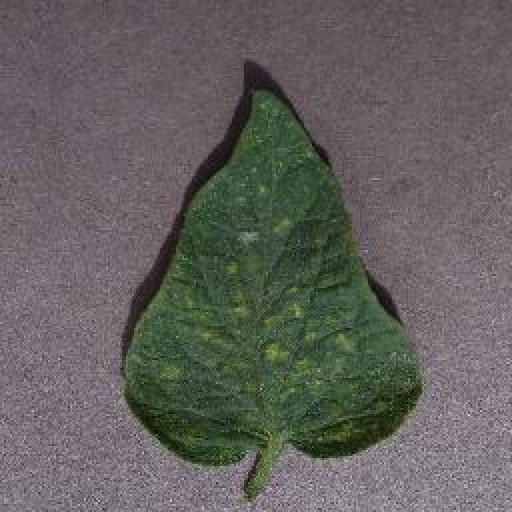disease_tomato: (124, 85, 423, 468)
